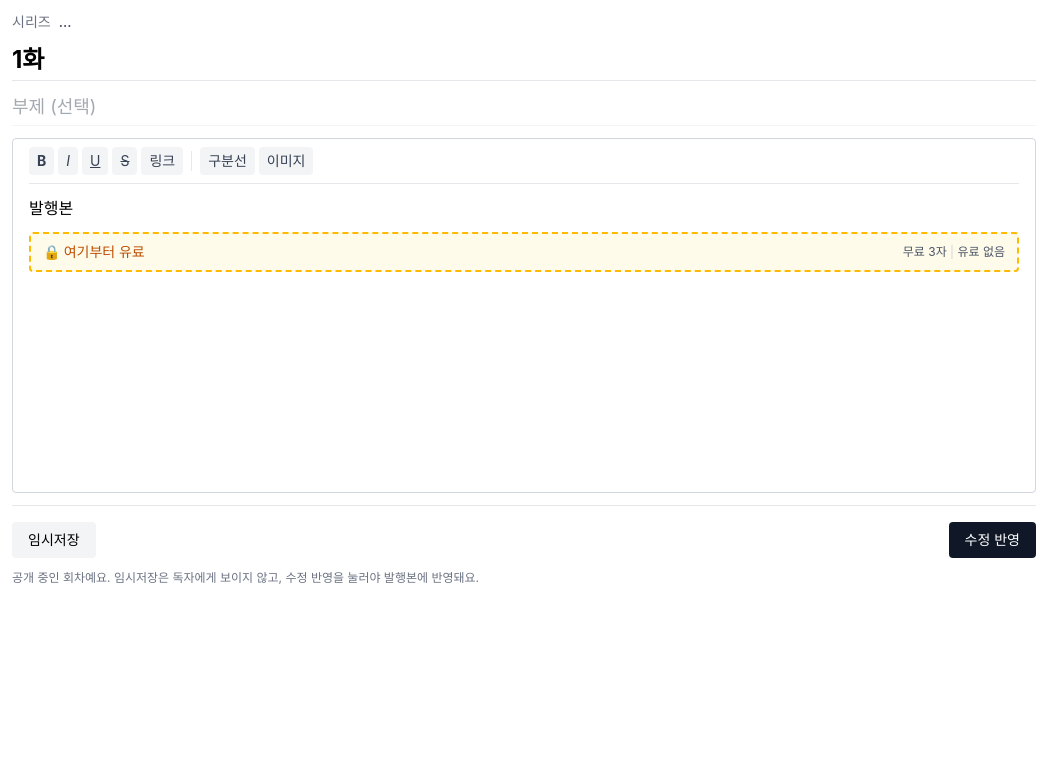
Test: EpisodeEditor › 공개 회차 임시저장: content 대신 draft 봉투만 PUT한다(#86)
Click the button "임시저장".
click(54, 540)  # box top-left (12, 522), bottom-right (96, 558)
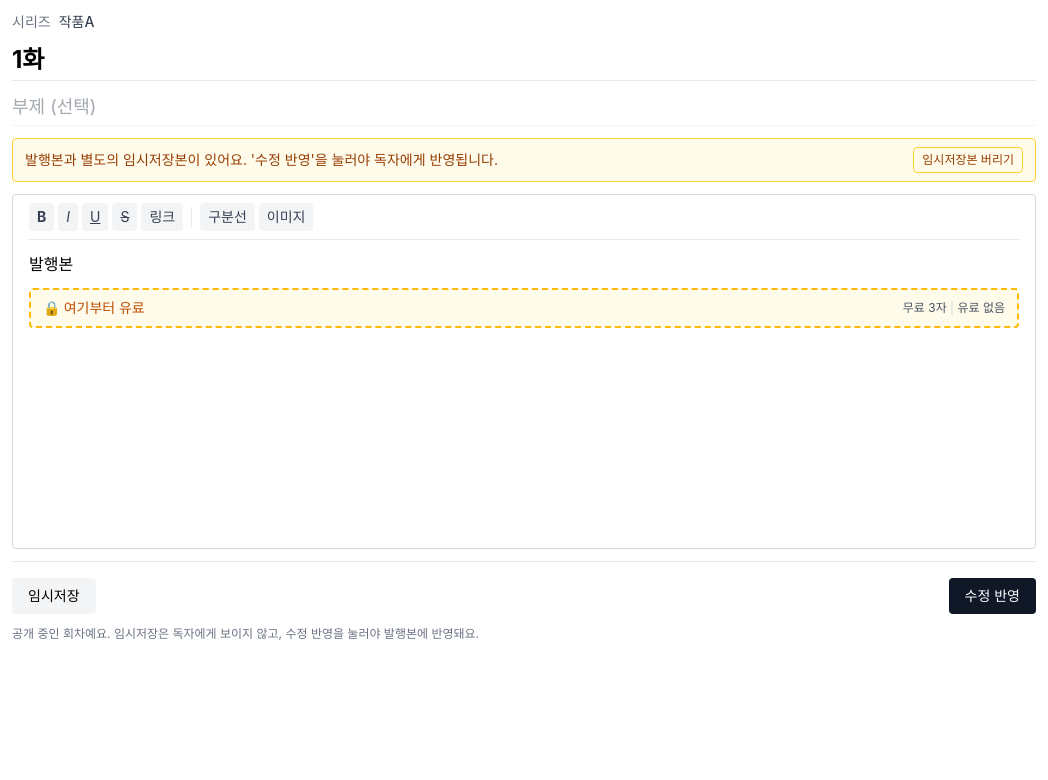
Expected: the text "발행본과 별도의 임시저장본이 있어요. '수정 반영'을 눌러야 독자에게 반영됩니다." is shown, top-left (25, 150), bottom-right (498, 170)
